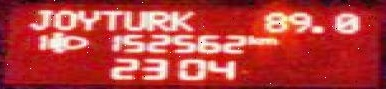-: (310, 22, 325, 33)
0: (330, 10, 360, 34), (175, 57, 205, 80)
1: (106, 33, 119, 52), (35, 32, 45, 52)
2: (106, 56, 137, 80), (144, 32, 170, 52), (221, 32, 244, 52)
3: (139, 56, 167, 80)
4: (205, 57, 236, 78)
5: (170, 32, 195, 52), (119, 32, 144, 51)
6: (195, 32, 220, 52)
8: (261, 8, 286, 32)
9: (287, 10, 310, 31)
X: (167, 8, 195, 31), (50, 9, 76, 30), (144, 8, 167, 31), (76, 7, 99, 30), (25, 9, 50, 30), (121, 9, 144, 30), (99, 9, 122, 30), (259, 36, 277, 45), (246, 34, 258, 45)
